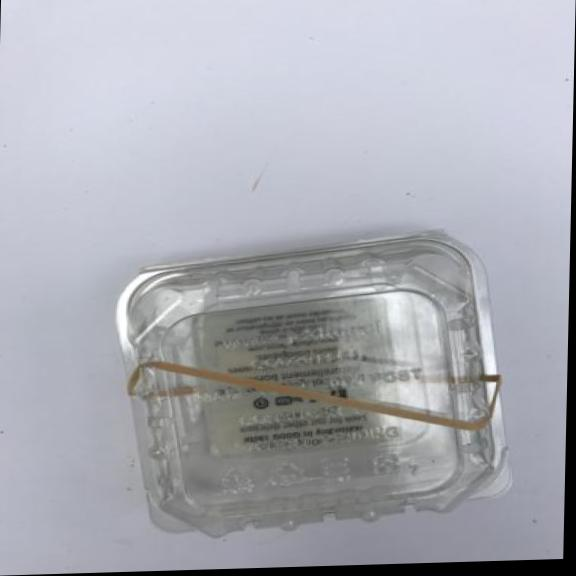Plastik: (97, 214, 527, 554)
